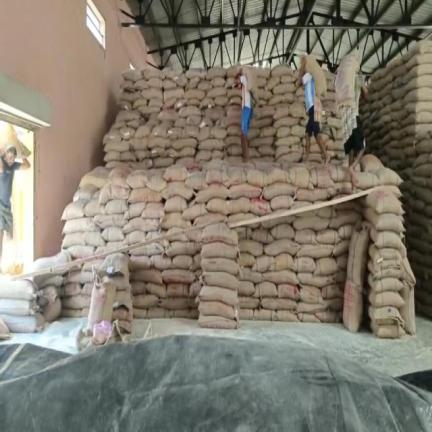Zone-Counting: (0, 121, 30, 273), (297, 55, 329, 163), (335, 49, 364, 157), (237, 71, 252, 138)
